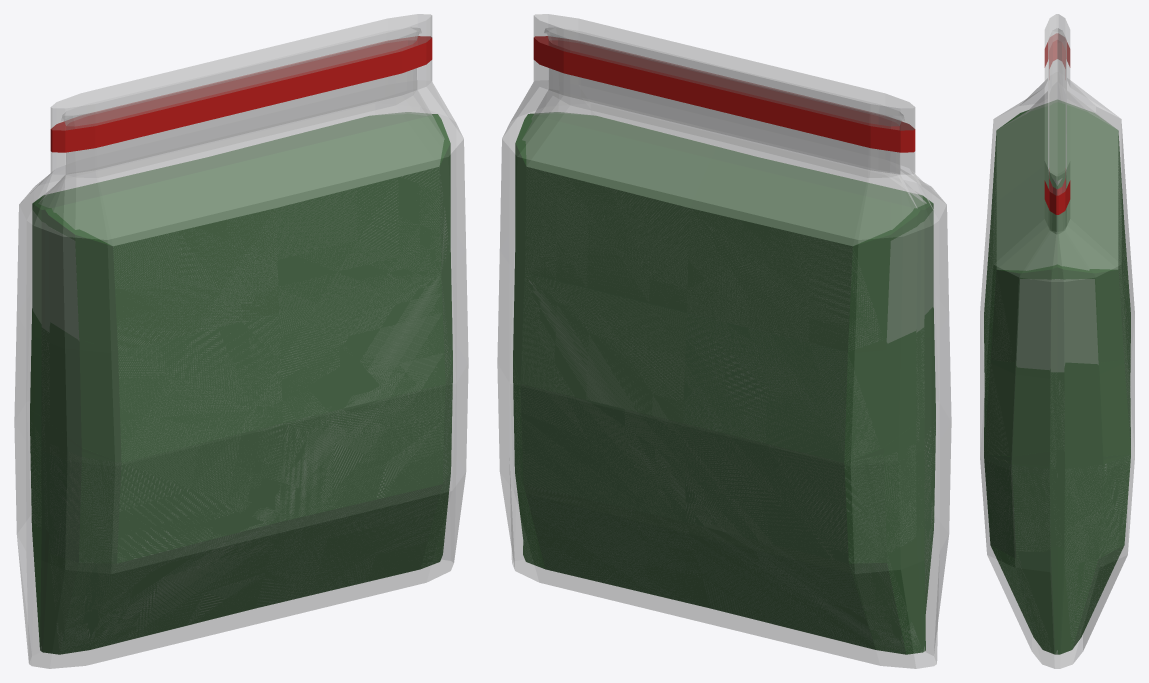
Rendered from Bag Of Drugs 1.fbx.
3 views of the same model, side by side, from view 1: azimuth 30°, elevation 25°; view 2: azimuth 150°, elevation 25°; view 3: azimuth 270°, elevation 25° (orthographic). The views are drawn at different scales.
Parts seen in each view (by area): view 1: Bag Of Drugs 1, Full, 1/2, 3/4, 1/4; view 2: Bag Of Drugs 1, Full, 1/2, 3/4, 1/4; view 3: Bag Of Drugs 1, Full, 3/4, 1/2, 1/4.
Part boxes in pixels (left/top/right/bottom): Bag Of Drugs 1: left=14, top=14, right=468, bottom=668; Full: left=32, top=112, right=450, bottom=439; 1/2: left=30, top=358, right=452, bottom=654; 3/4: left=30, top=249, right=452, bottom=563; 1/4: left=32, top=521, right=419, bottom=654; Bag Of Drugs 1: left=497, top=14, right=951, bottom=668; Full: left=515, top=112, right=933, bottom=441; 1/2: left=513, top=358, right=935, bottom=654; 3/4: left=513, top=249, right=935, bottom=562; 1/4: left=523, top=523, right=925, bottom=651; Bag Of Drugs 1: left=980, top=14, right=1134, bottom=668; Full: left=990, top=100, right=1124, bottom=467; 3/4: left=984, top=225, right=1130, bottom=565; 1/2: left=984, top=450, right=1128, bottom=654; 1/4: left=1017, top=546, right=1071, bottom=654.
Bounding box in the file's own units: 2 × 2.5 × 0.726.
